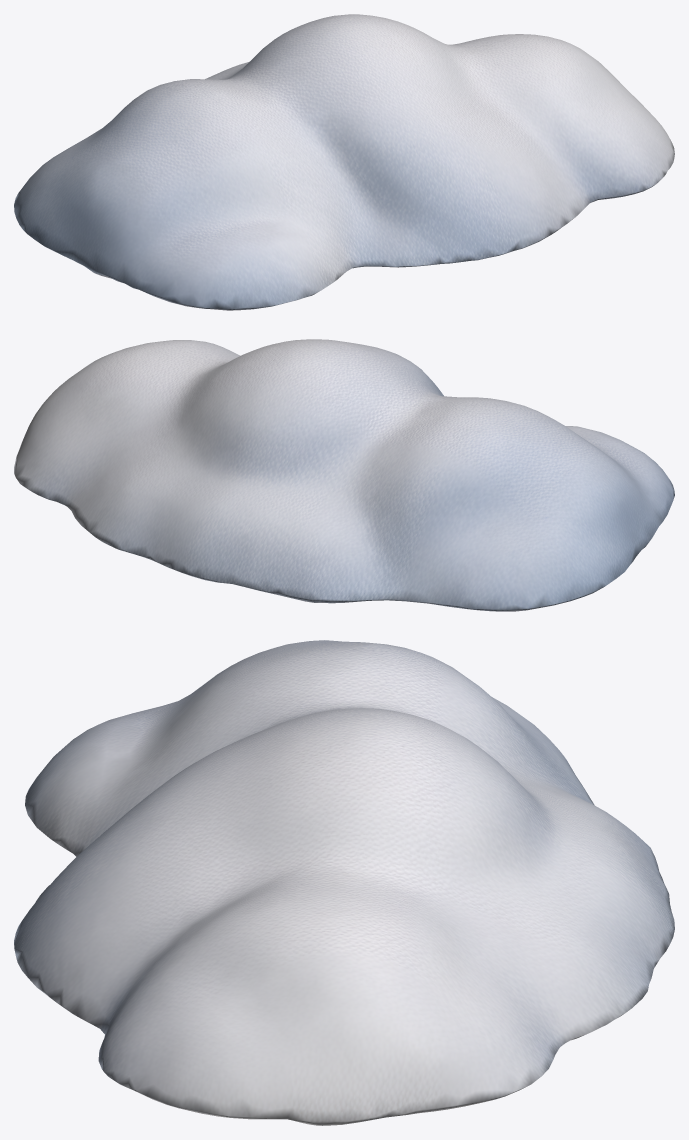
Rendered from PR_SnowSoft_Lobed.fbx.
The picture shows the model from 3 angles, top to bottom: view 1: azimuth 30°, elevation 25°; view 2: azimuth 150°, elevation 25°; view 3: azimuth 270°, elevation 25°; orthographic projection. The views are drawn at different scales.
Visible parts, largest first — view 1: texture_mapping; view 2: texture_mapping; view 3: texture_mapping.
Boxes of the visible parts, <box> form: texture_mapping: <box>14,14,674,310</box>; texture_mapping: <box>14,339,674,611</box>; texture_mapping: <box>14,640,674,1125</box>.
Size of the model in its own units: 1 by 0.6895 by 0.2486.
1 material, 1 textured.
